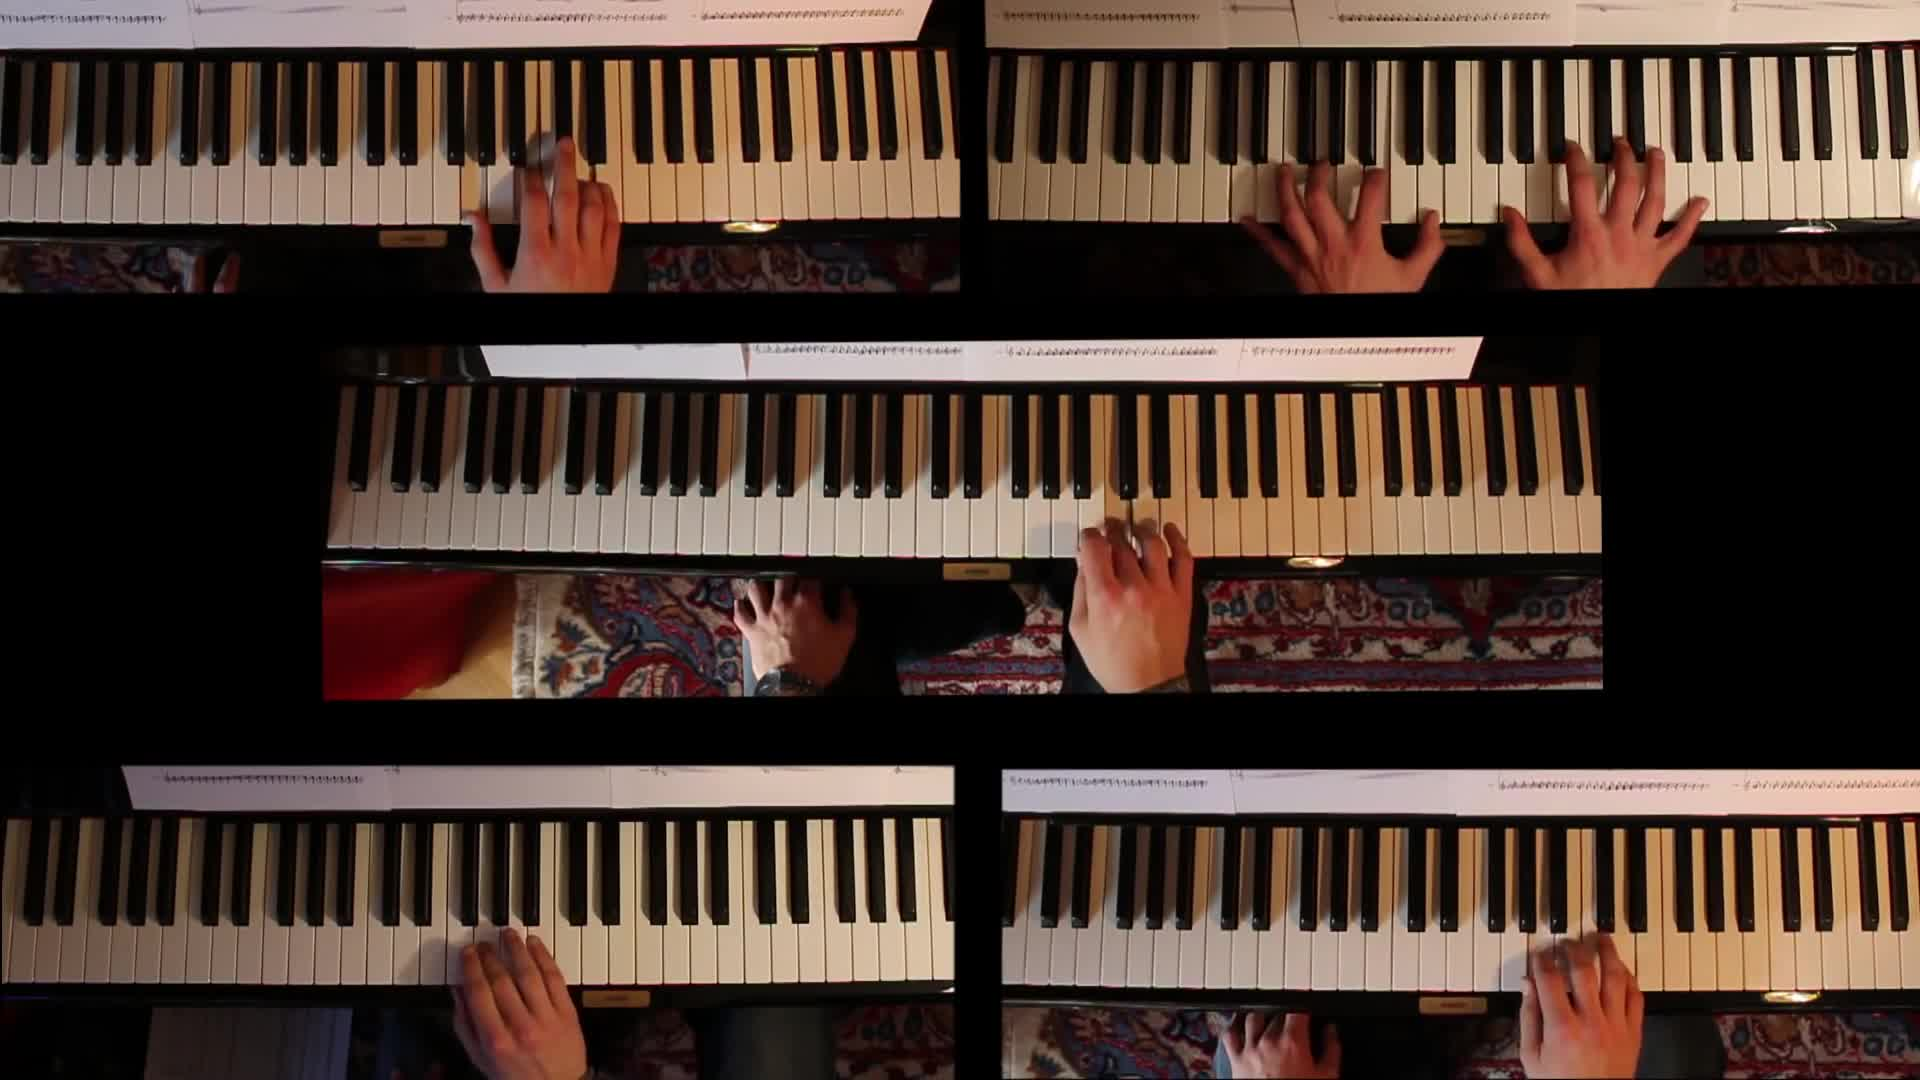left: (1238, 158, 1445, 291), (731, 567, 866, 686), (1218, 1001, 1350, 1080), (170, 243, 251, 295)
right: (1505, 131, 1713, 287), (463, 135, 625, 307), (1063, 516, 1201, 698), (451, 928, 589, 1080), (1518, 931, 1640, 1080)
